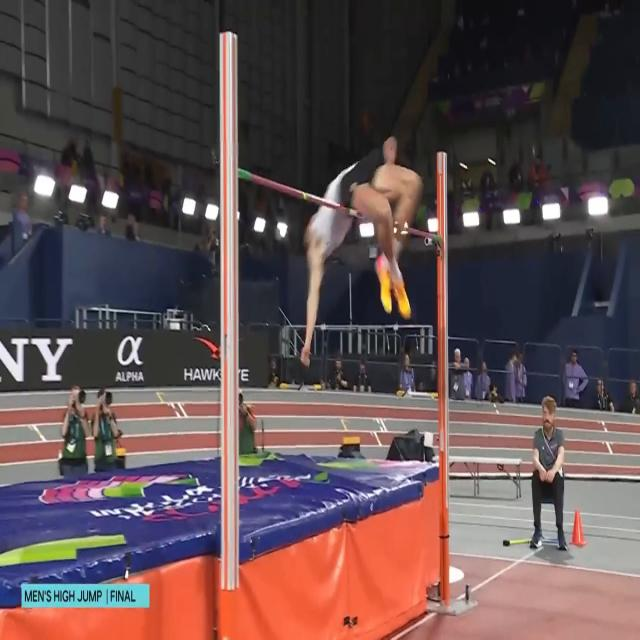jump: (298, 140, 422, 364)
